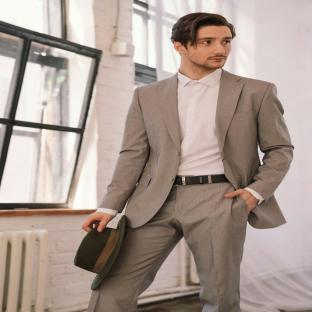Human: (82, 12, 293, 312)
